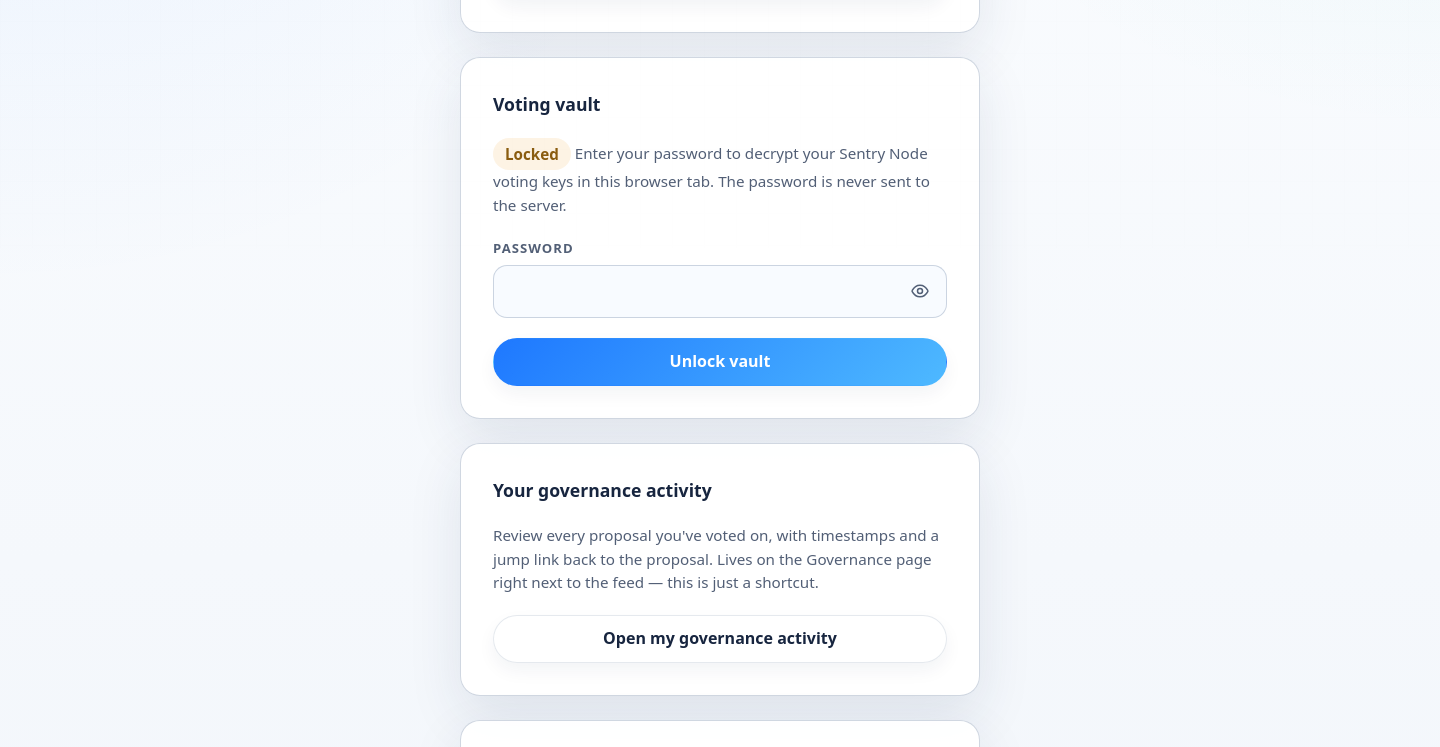
Test: Account page — vault status card › renders the unlock form when the vault is locked and refuses empty passwords
(page scrolled)
Check: the form with test id "vault-status-card" is shown, box [460,57,980,419]
// Empty-password submit must never reach the KDF.
Click the button with test id "vault-unlock" at (720, 362), box [493,338,947,386]
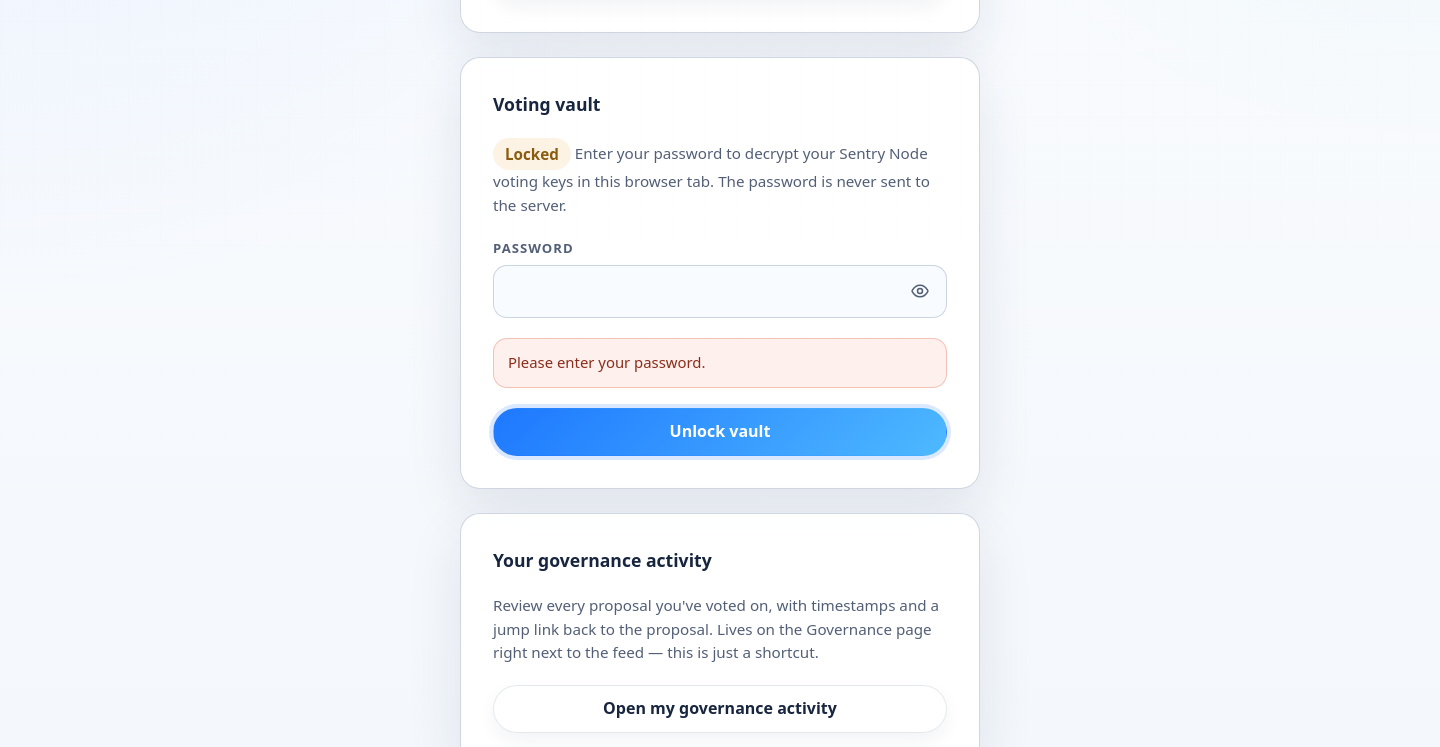
Check: the message with test id "vault-unlock-error" shows "Please enter your password", box [508,352,706,372]
